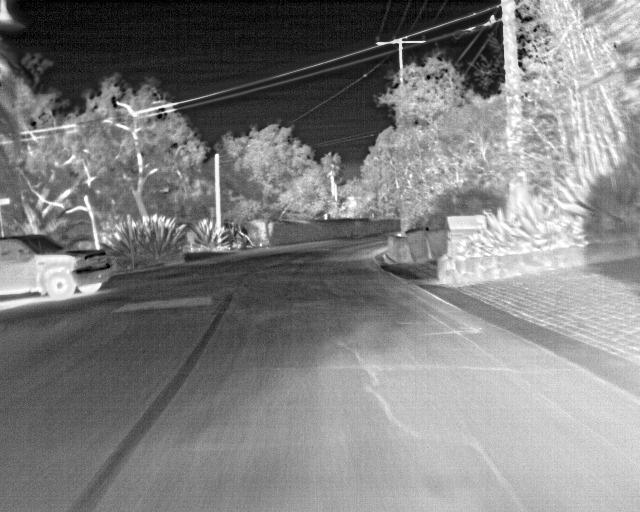car: (0, 234, 115, 301)
